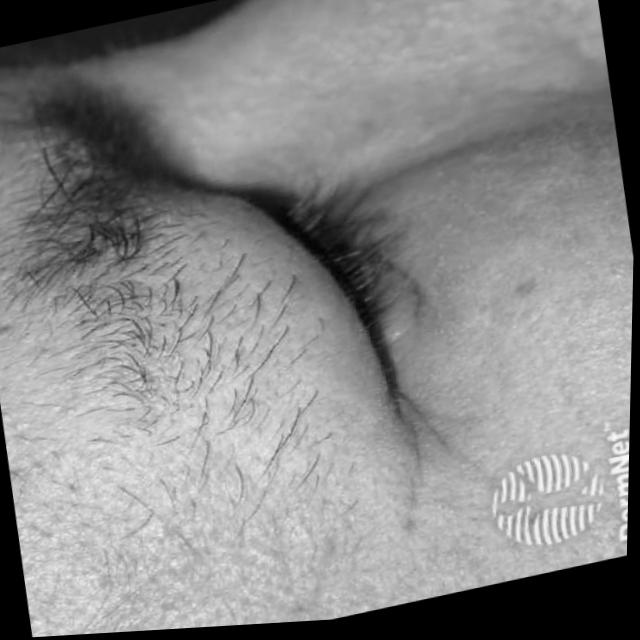Eczema: (67, 443, 354, 635), (377, 296, 415, 347)
